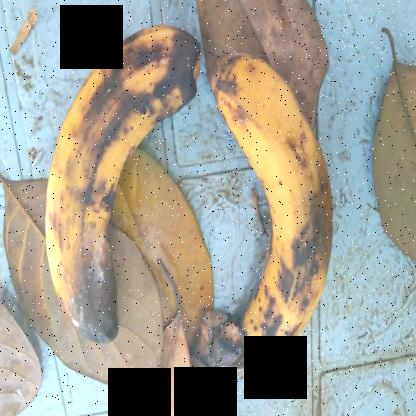overripe: (41, 13, 196, 369), (214, 38, 340, 371)
